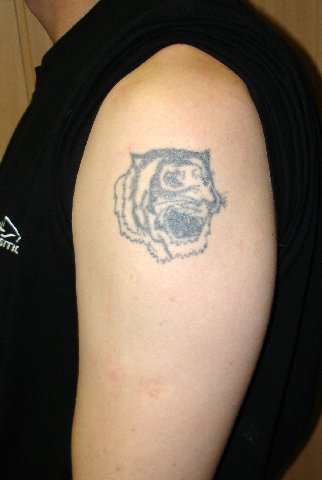tatu5_tigr: (113, 148, 227, 266)
